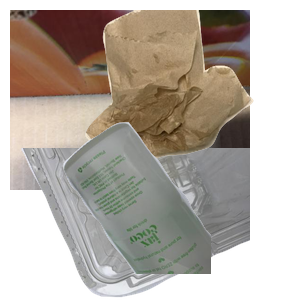cardboard: (10, 10, 250, 190)
glass: (60, 120, 300, 300)
plastic: (19, 148, 259, 300)
trash: (83, 10, 300, 163)
